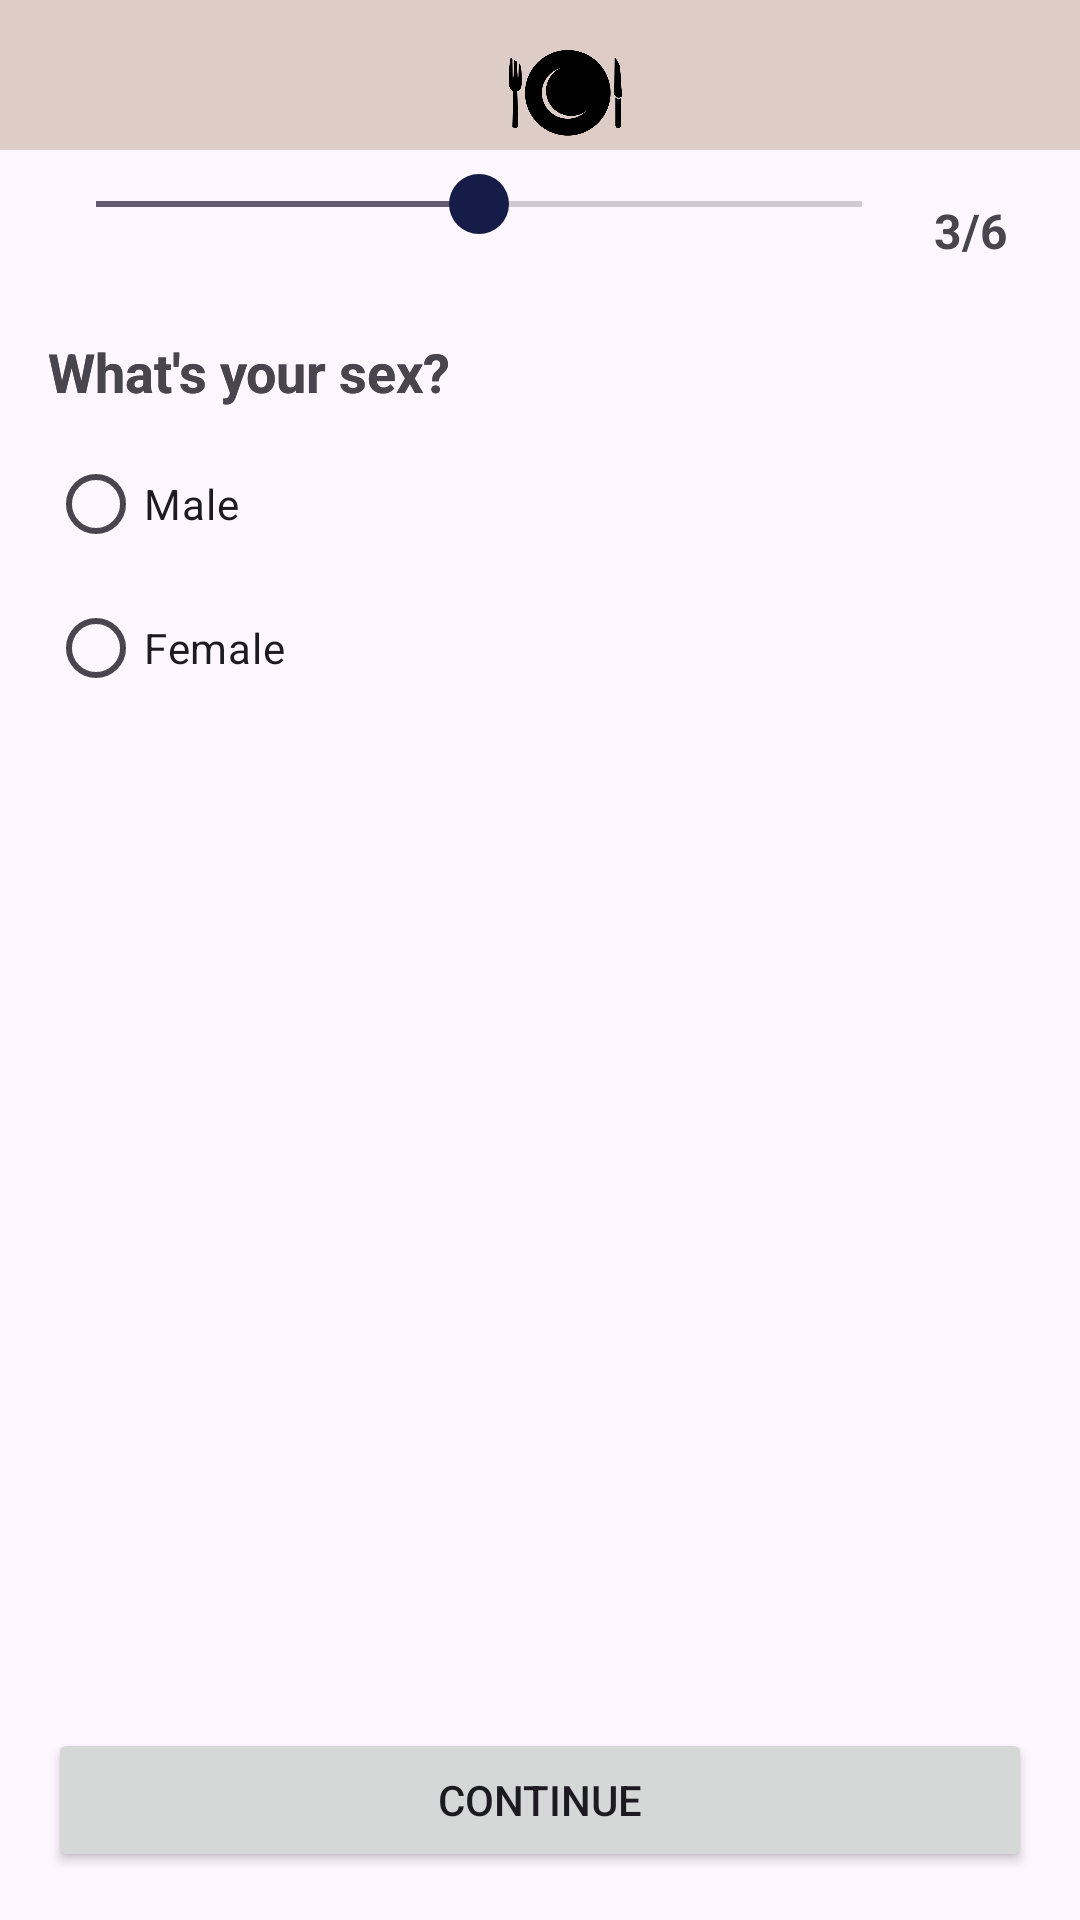

Point at icon controls on the screen. Image size 1080x1920, points as point (x, y).
noun meal: point (565, 93)
